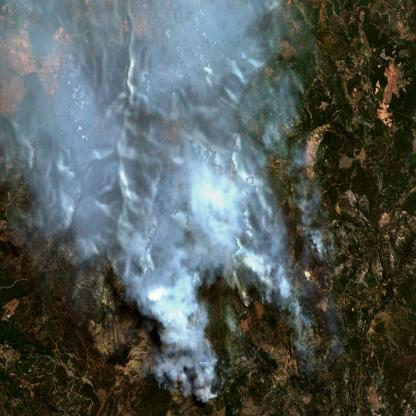fire: (136, 218, 347, 406)
